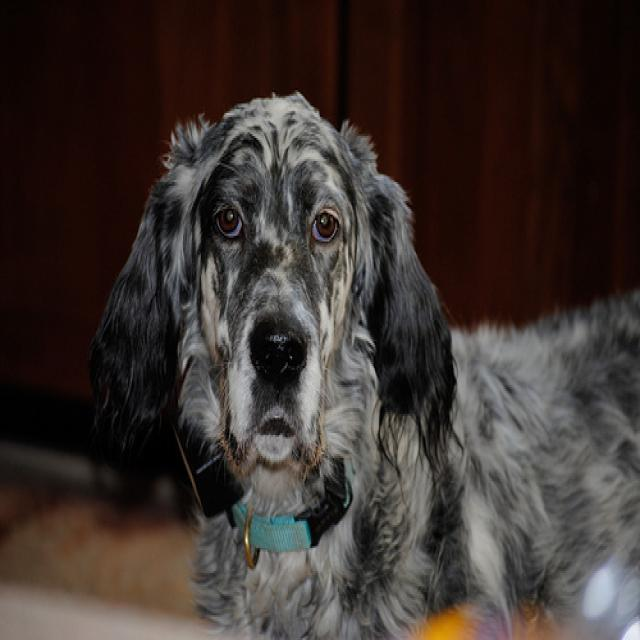dog-english_setter: (81, 82, 637, 636)
